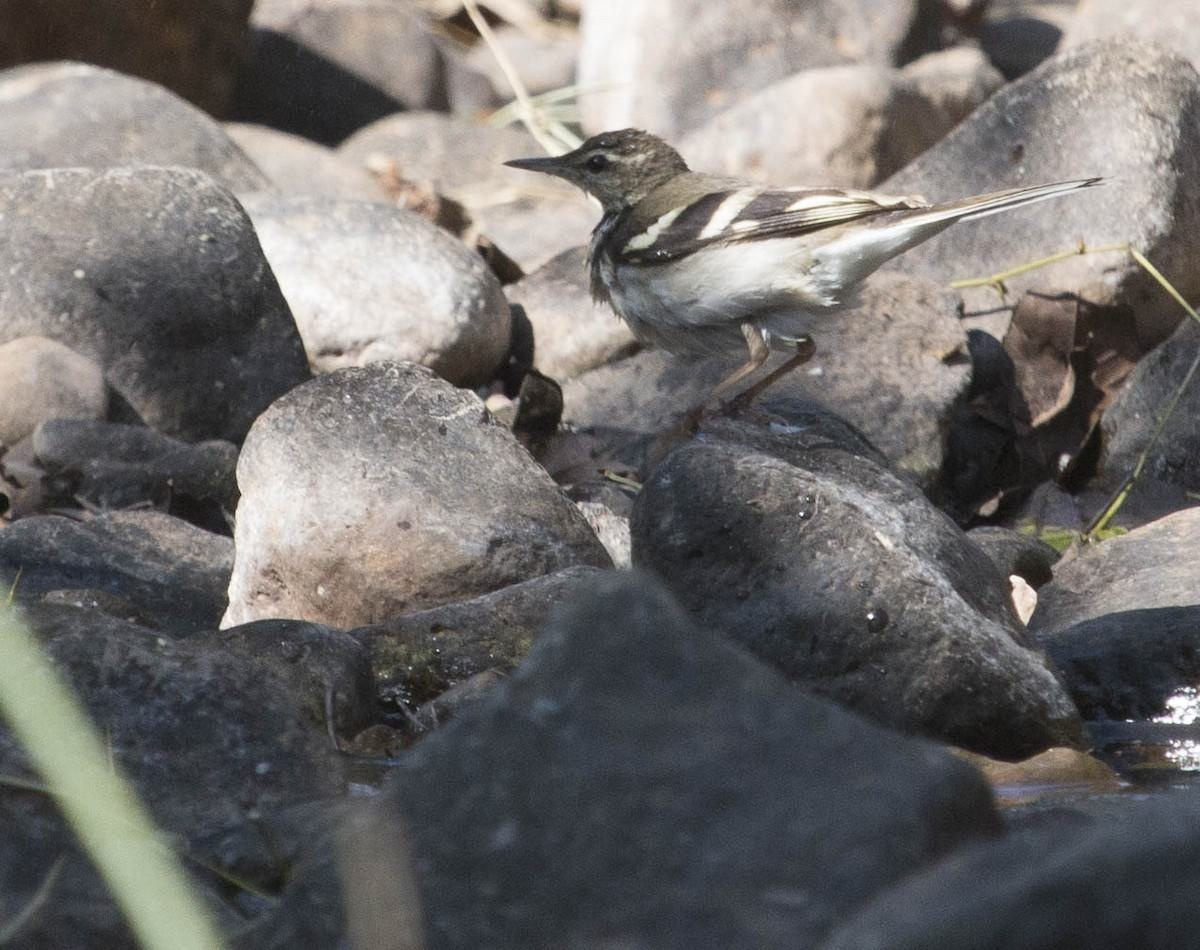wagtail: (511, 129, 1002, 397)
